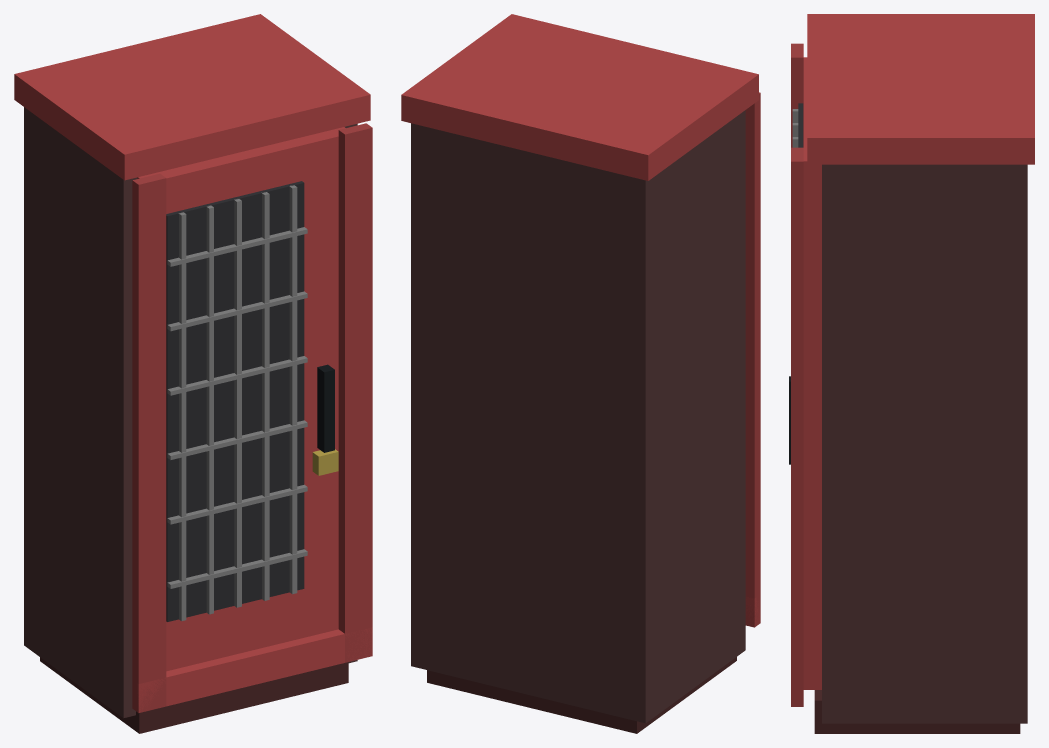
The model's file is CMU3DArmoryLocker.glb.
3 renders of one model, left to right at view 1: azimuth 30°, elevation 25°; view 2: azimuth 150°, elevation 25°; view 3: azimuth 270°, elevation 25°, orthographic. The views are drawn at different scales.
Visible parts, largest first — view 1: cabinet body, mesh backing, top cap, door, red left frame, red right frame, mesh upright (×5), red lower frame, mesh crossbar (×6), foot plinth, handle, lock plate; view 2: cabinet body, top cap, red left frame, foot plinth; view 3: cabinet body, top cap, door, red right frame, foot plinth, red left frame.
Boxes of the visible parts, <box> form: cabinet body: <box>24,107,357,718</box>; mesh backing: <box>166,181,304,621</box>; top cap: <box>14,14,370,180</box>; door: <box>137,127,345,671</box>; red left frame: <box>132,173,166,712</box>; red right frame: <box>338,123,372,662</box>; mesh upright (×5): <box>178,185,297,621</box>; red lower frame: <box>132,627,372,712</box>; mesh crossbar (×6): <box>167,227,307,588</box>; foot plinth: <box>40,657,348,733</box>; handle: <box>317,364,334,452</box>; lock plate: <box>312,449,338,475</box>; cabinet body: <box>411,110,745,723</box>; top cap: <box>401,14,758,180</box>; red left frame: <box>745,92,760,627</box>; foot plinth: <box>427,657,736,733</box>; cabinet body: <box>822,164,1027,723</box>; top cap: <box>807,14,1034,164</box>; door: <box>803,57,821,689</box>; red right frame: <box>791,147,803,706</box>; foot plinth: <box>814,690,1020,733</box>; red left frame: <box>791,43,803,147</box>.
Bounding box in the file's own units: 0.8 × 1.82 × 0.67.
